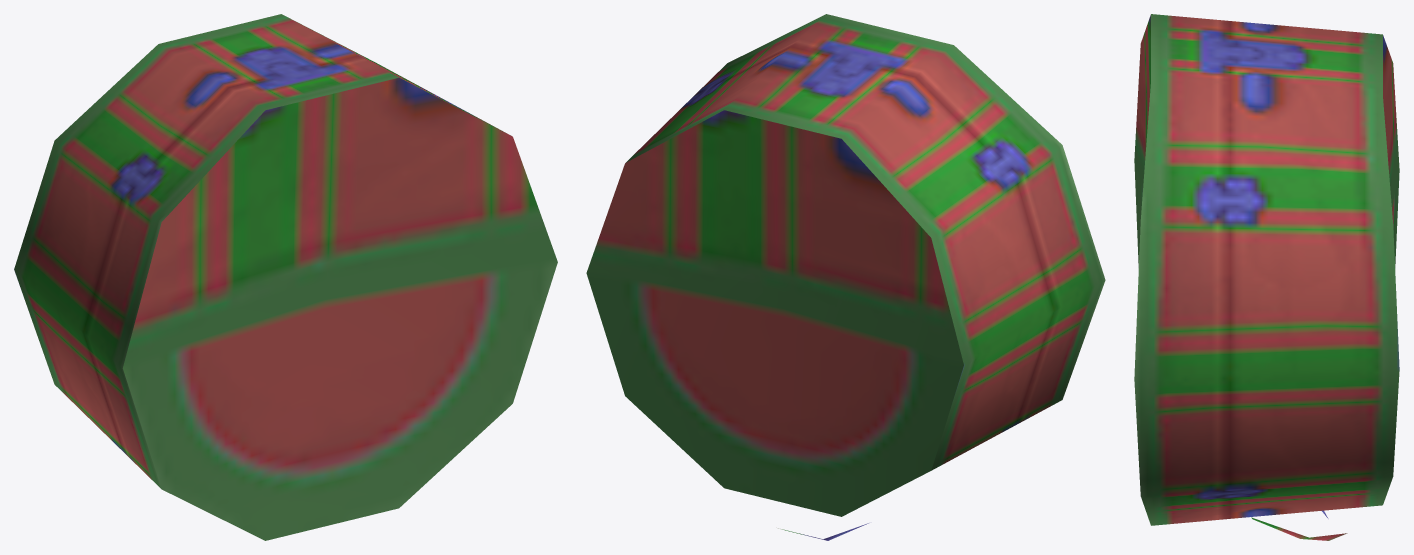
Rendered from luggage_hatbox_recolor_01.glb.
3 renders of one model, left to right at view 1: azimuth 30°, elevation 25°; view 2: azimuth 150°, elevation 25°; view 3: azimuth 270°, elevation 25°, orthographic. The views are drawn at different scales.
Visible parts, largest first — view 1: manor.luggage_hatbox_recolor_01-Mesh[0]; view 2: manor.luggage_hatbox_recolor_01-Mesh[0]; view 3: manor.luggage_hatbox_recolor_01-Mesh[0].
Part boxes in pixels (x1=…): manor.luggage_hatbox_recolor_01-Mesh[0]: x1=14, y1=14, x2=557, y2=540; manor.luggage_hatbox_recolor_01-Mesh[0]: x1=586, y1=14, x2=1105, y2=540; manor.luggage_hatbox_recolor_01-Mesh[0]: x1=1134, y1=14, x2=1399, y2=540.
Bounding box in the file's own units: 0.704 × 0.7229 × 0.36.
1 material, 1 textured.
